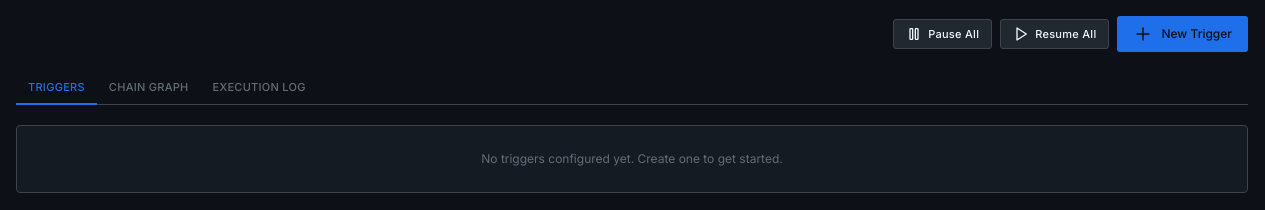
Test: TriggerWorkflowPage › switches to Chain Graph tab
Click the tab "Chain Graph". click: (149,89)
box: x1=97 y1=72 x2=200 y2=105
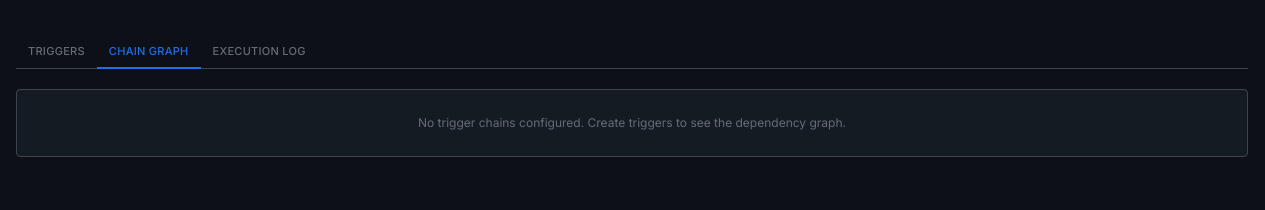
Expected: the text with test id "chain-graph-empty" is shown, x1=418 y1=115 x2=846 y2=130
